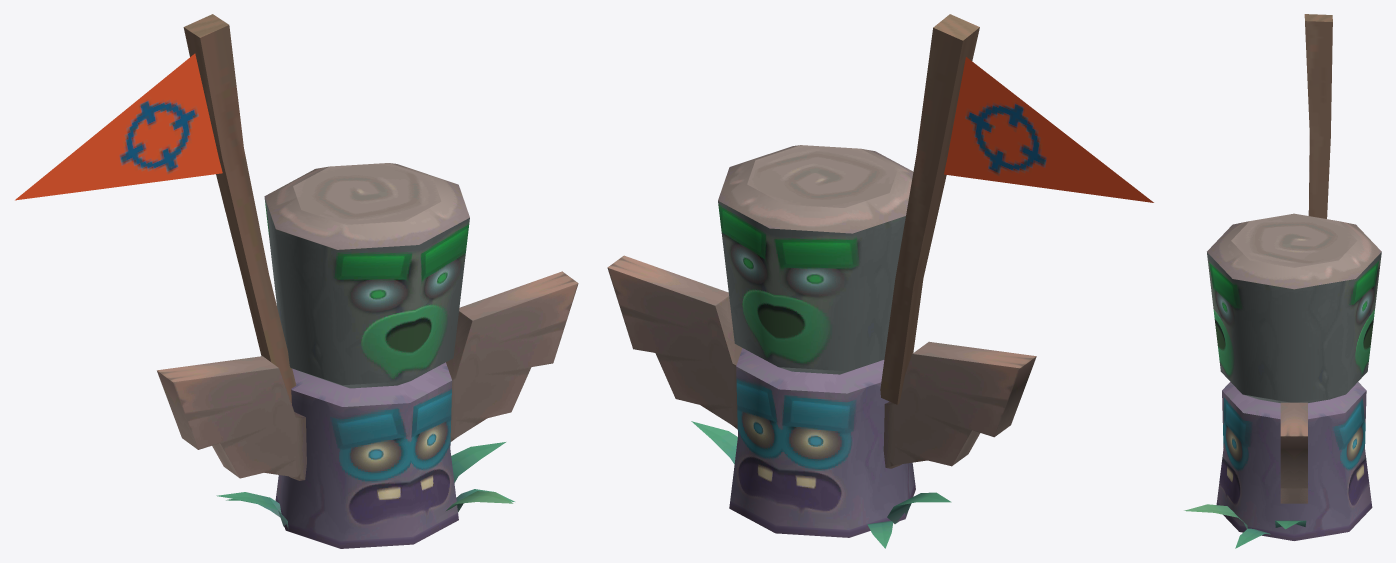
The model's file is Pillar1B-007_02_15_2102.fbx.
3 renders of one model, left to right at view 1: azimuth 30°, elevation 25°; view 2: azimuth 150°, elevation 25°; view 3: azimuth 270°, elevation 25°, orthographic. The views are drawn at different scales.
Visible parts, largest first — view 1: Totem2, Flag1.001 (1), Wood1.002 (1); view 2: Totem2, Flag1.001 (1), Wood1.002 (1); view 3: Totem2, Wood1.002 (1).
Boxes of the visible parts, <box> form: Totem2: <box>157,163,578,548</box>; Flag1.001 (1): <box>15,53,222,200</box>; Wood1.002 (1): <box>183,14,296,404</box>; Totem2: <box>607,145,1036,548</box>; Flag1.001 (1): <box>944,57,1153,202</box>; Wood1.002 (1): <box>880,14,979,404</box>; Totem2: <box>1184,213,1381,548</box>; Wood1.002 (1): <box>1304,14,1332,218</box>.
Bounding box in the file's own units: 4.92 × 4.46 × 1.85.
